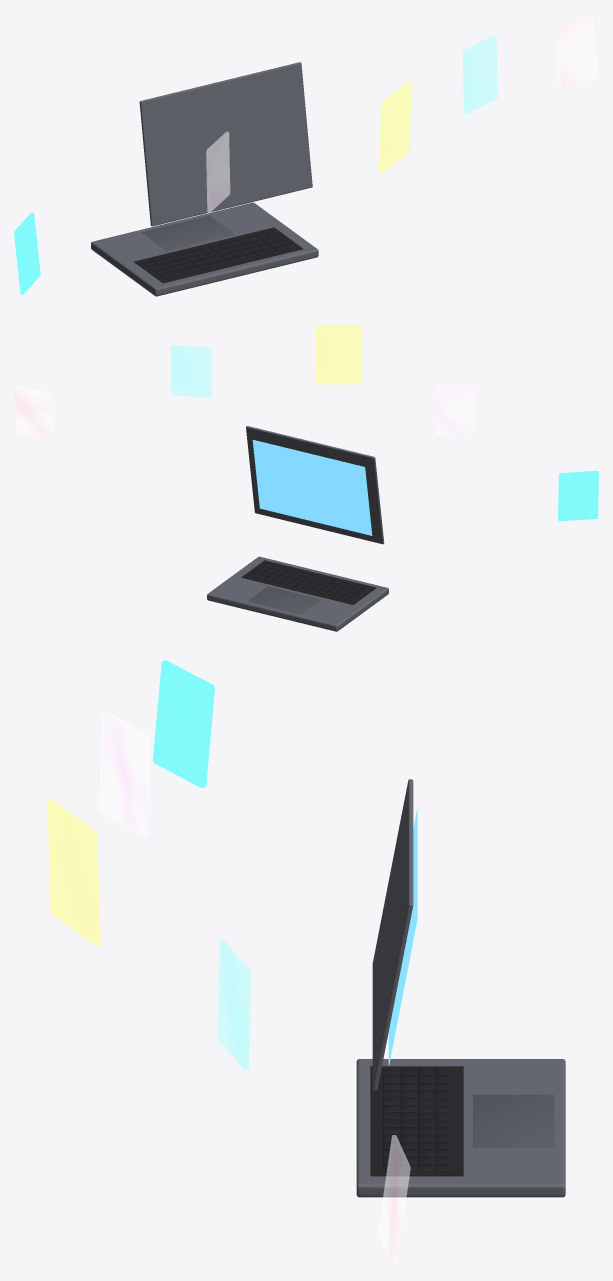
File: devstation.glb
3 views of the same model, one above another, from view 1: azimuth 30°, elevation 25°; view 2: azimuth 150°, elevation 25°; view 3: azimuth 270°, elevation 25° (orthographic). The views are drawn at different scales.
Visible parts, largest first — view 1: Notebook_Lid, Notebook_Body, Keyboard_Keys, Card_Security, Card_Platform, Card_AI, KeyboardWell, Trackpad, Card_Frontend, Card_Backend; view 2: Screen_LCD, Notebook_Body, Notebook_Lid, Card_AI, Card_Frontend, Card_Platform, Card_Backend, Card_Security, Keyboard_Keys, KeyboardWell, Trackpad; view 3: Notebook_Body, Keyboard_Keys, Notebook_Lid, Card_Backend, Card_AI, Card_Frontend, KeyboardWell, Trackpad, Card_Platform, Card_Security, Screen_LCD.
Boxes of the visible parts, <box> form: Notebook_Lid: <box>139,62,312,226</box>; Notebook_Body: <box>91,202,318,296</box>; Keyboard_Keys: <box>143,231,294,278</box>; Card_Security: <box>553,14,598,92</box>; Card_Platform: <box>462,35,497,113</box>; Card_AI: <box>379,81,411,173</box>; KeyboardWell: <box>134,227,302,283</box>; Trackpad: <box>142,215,234,250</box>; Card_Frontend: <box>206,131,230,212</box>; Card_Backend: <box>14,212,40,294</box>; Screen_LCD: <box>252,440,372,535</box>; Notebook_Body: <box>207,556,388,631</box>; Notebook_Lid: <box>246,426,384,544</box>; Card_AI: <box>316,325,362,384</box>; Card_Frontend: <box>435,383,475,435</box>; Card_Platform: <box>171,345,211,397</box>; Card_Backend: <box>558,470,598,521</box>; Card_Security: <box>14,387,54,439</box>; Keyboard_Keys: <box>248,563,369,600</box>; KeyboardWell: <box>241,560,376,604</box>; Trackpad: <box>248,586,321,614</box>; Notebook_Body: <box>356,1059,565,1197</box>; Keyboard_Keys: <box>383,1068,450,1171</box>; Notebook_Lid: <box>372,779,413,1090</box>; Card_Backend: <box>153,660,214,787</box>; Card_AI: <box>47,799,100,945</box>; Card_Frontend: <box>99,711,150,837</box>; KeyboardWell: <box>370,1066,463,1176</box>; Trackpad: <box>473,1094,554,1147</box>; Card_Platform: <box>217,939,251,1069</box>; Card_Security: <box>378,1135,410,1266</box>; Screen_LCD: <box>388,808,417,1064</box>.
Bounding box in the file's own units: 14.26 × 4.85 × 6.1.
